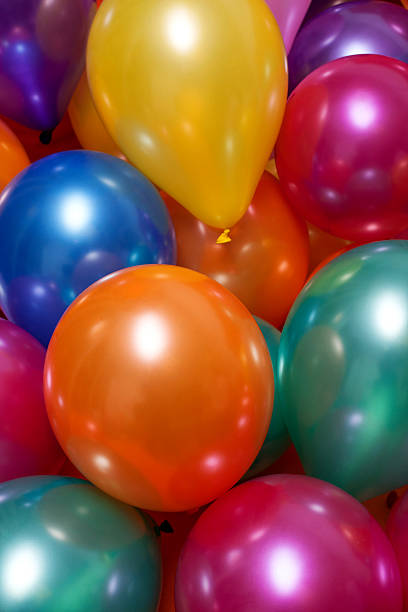Balloon: (45, 263, 275, 512), (84, 1, 281, 216), (274, 240, 408, 489), (176, 474, 408, 612), (276, 55, 408, 238), (1, 474, 163, 612), (1, 1, 95, 131)
